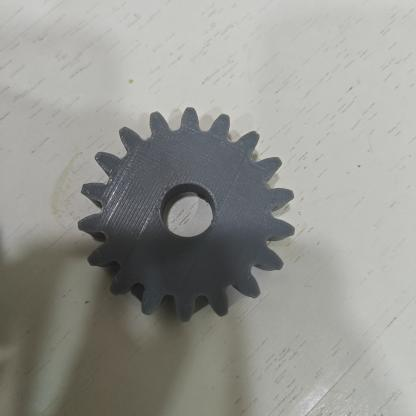gear: (78, 108, 295, 321)
